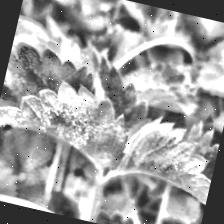Powdery Mildew Leaf: (0, 39, 145, 179), (98, 103, 224, 216)
